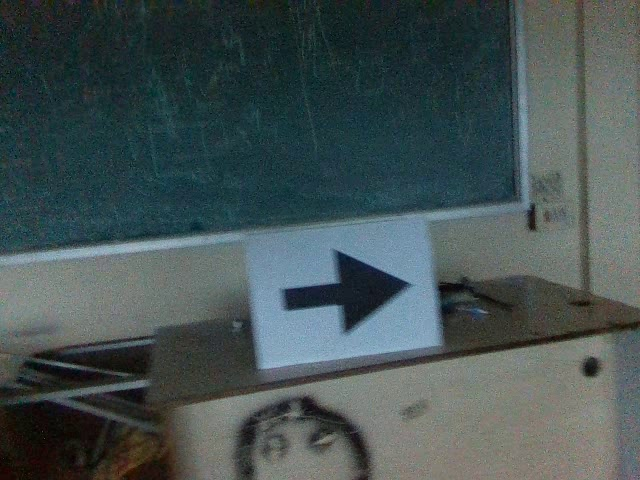Right: (269, 241, 414, 338)
